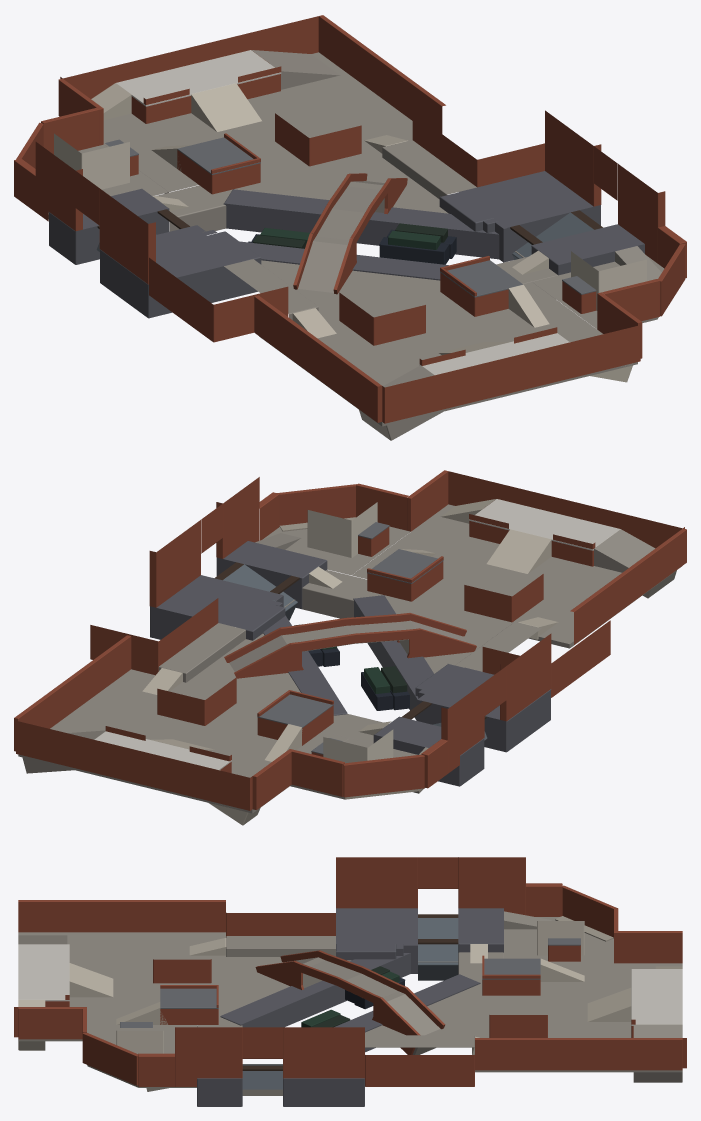
The model's file is lockgate_zones_level.glb.
3 views of the same model, one above another, from view 1: azimuth 30°, elevation 25°; view 2: azimuth 150°, elevation 25°; view 3: azimuth 270°, elevation 25° (orthographic). The views are drawn at different scales.
Visible parts, largest first — view 1: PaintableStage; view 2: PaintableStage; view 3: PaintableStage.
Boxes of the visible parts, x1,y1,x2,y2 form: PaintableStage: (14,15,686,440); PaintableStage: (14,470,686,825); PaintableStage: (14,857,686,1106).
Bounding box in the file's own units: 56 × 14.14 × 92.
